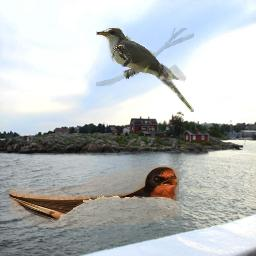Cuckoo: (96, 28, 194, 112)
Swallow: (9, 165, 179, 227)
